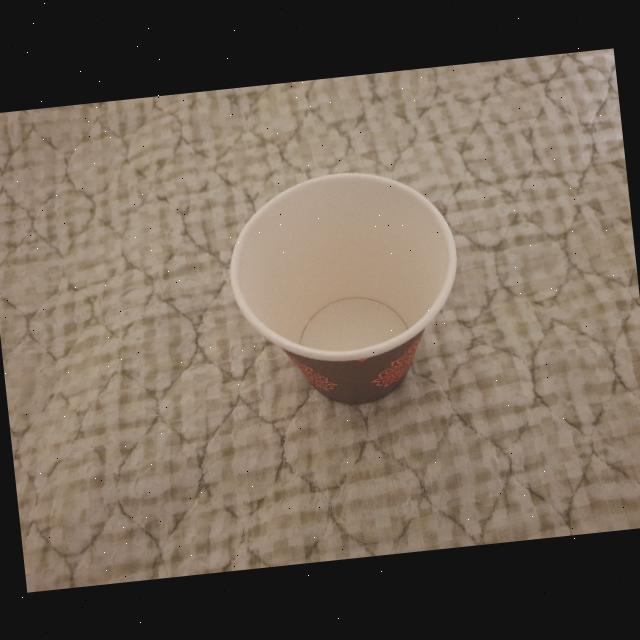trash: (214, 156, 473, 422)
